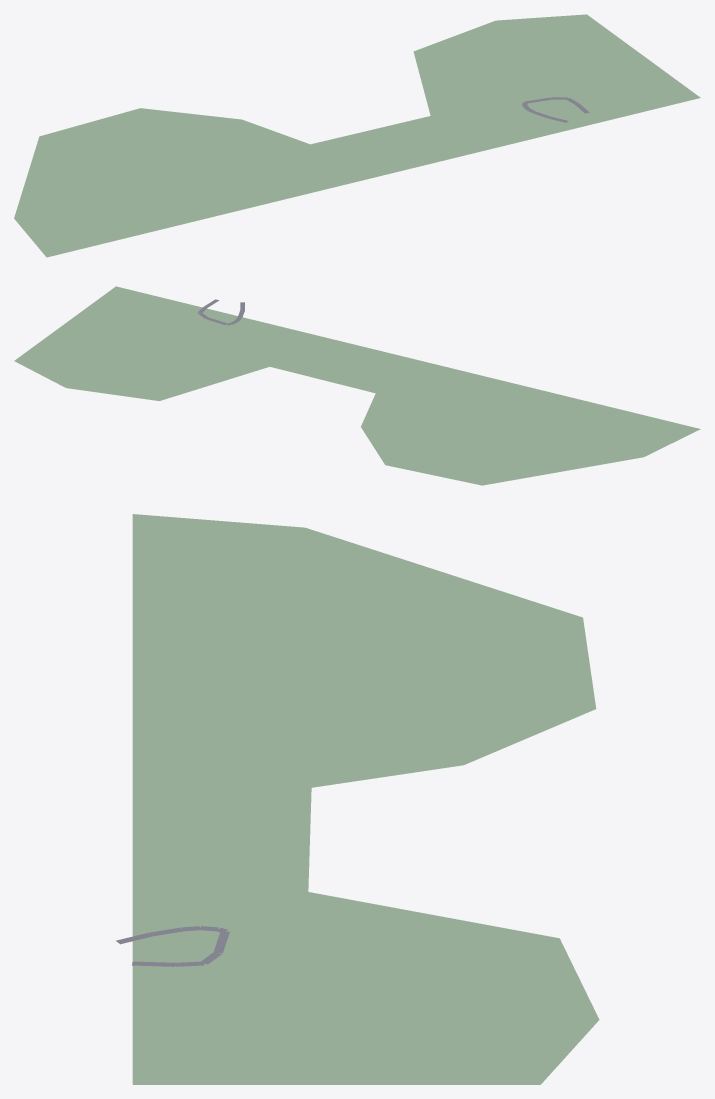
Rendered from 128_76_mid.glb.
3 views of the same model, one above another, from view 1: azimuth 30°, elevation 25°; view 2: azimuth 150°, elevation 25°; view 3: azimuth 270°, elevation 25° (orthographic). The views are drawn at different scales.
Bounding box in the file's own units: 417 × 7.84 × 149.
